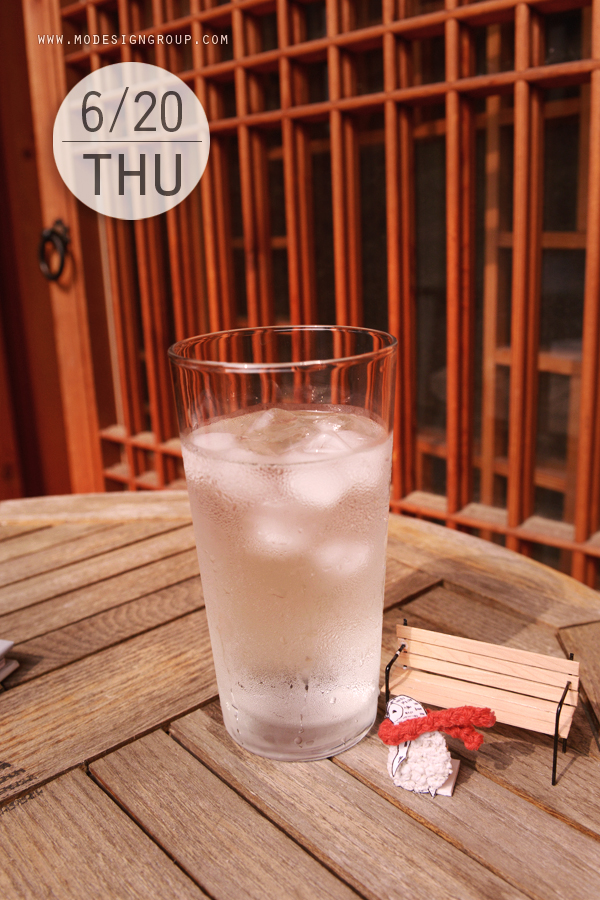glass of water: (176, 318, 395, 778)
